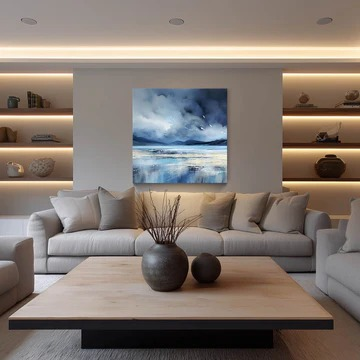painting: (132, 88, 228, 184)
